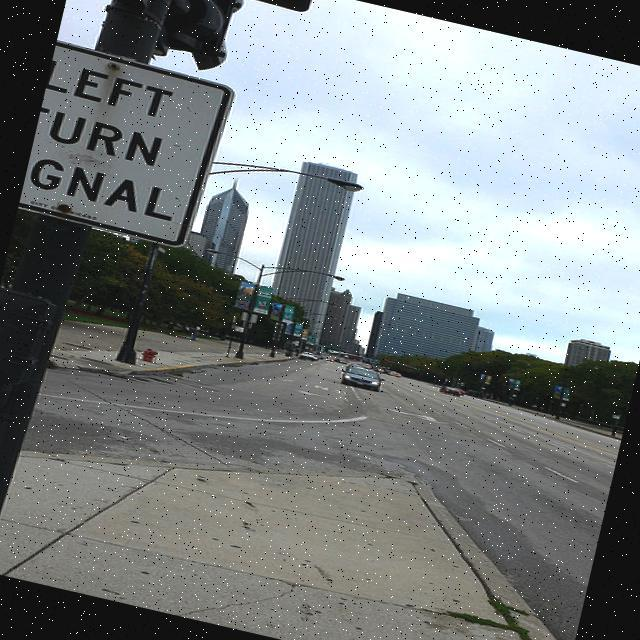fire_hydrant: (142, 345, 158, 362)
